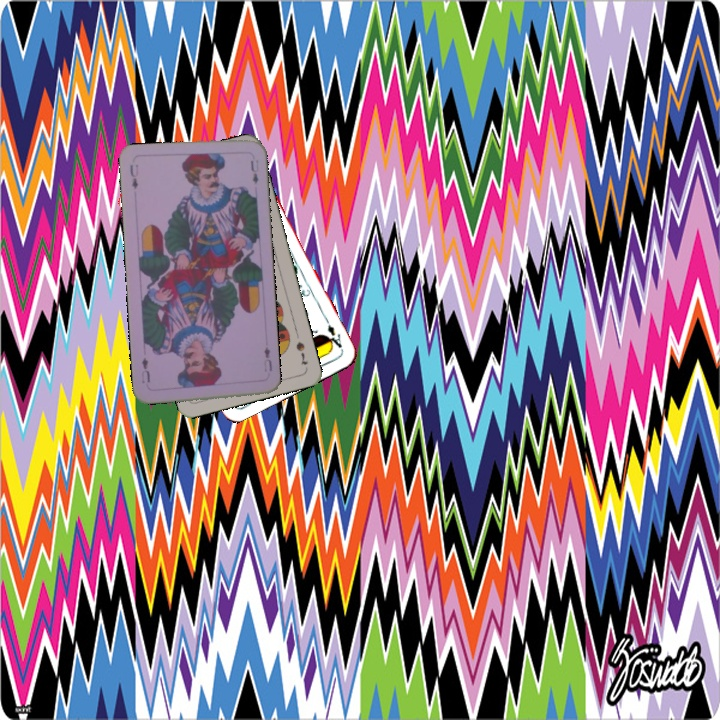EA: (322, 321, 345, 352)
EU: (260, 343, 275, 374), (126, 160, 141, 191)
S7: (292, 337, 310, 368)
